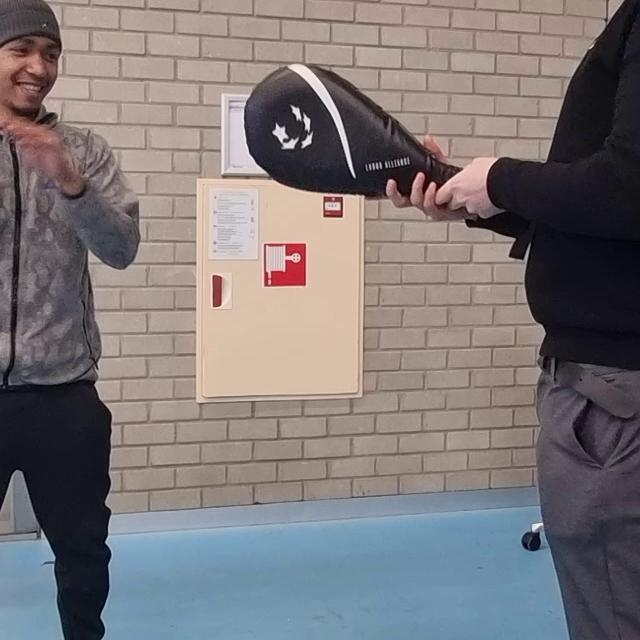paddle: (242, 65, 468, 206)
